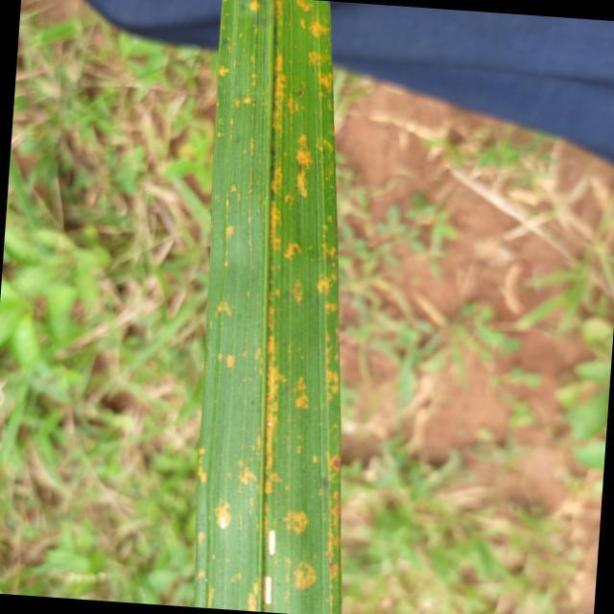Kalium: (199, 0, 338, 614)
